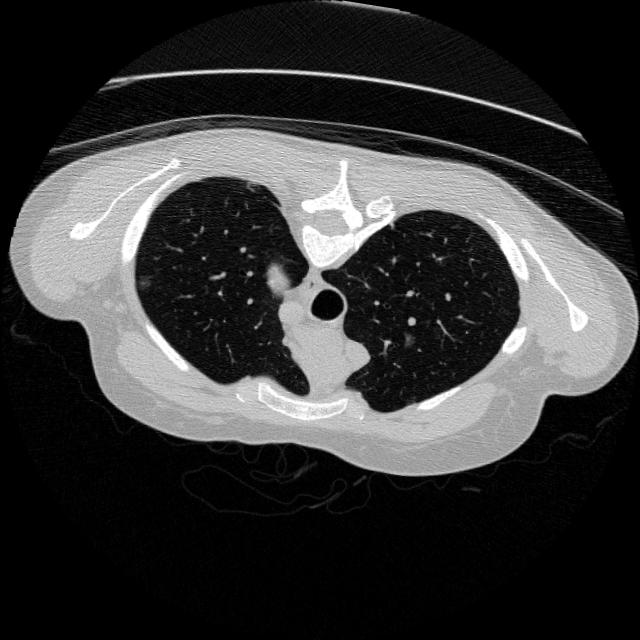nodule: (128, 267, 160, 299)
